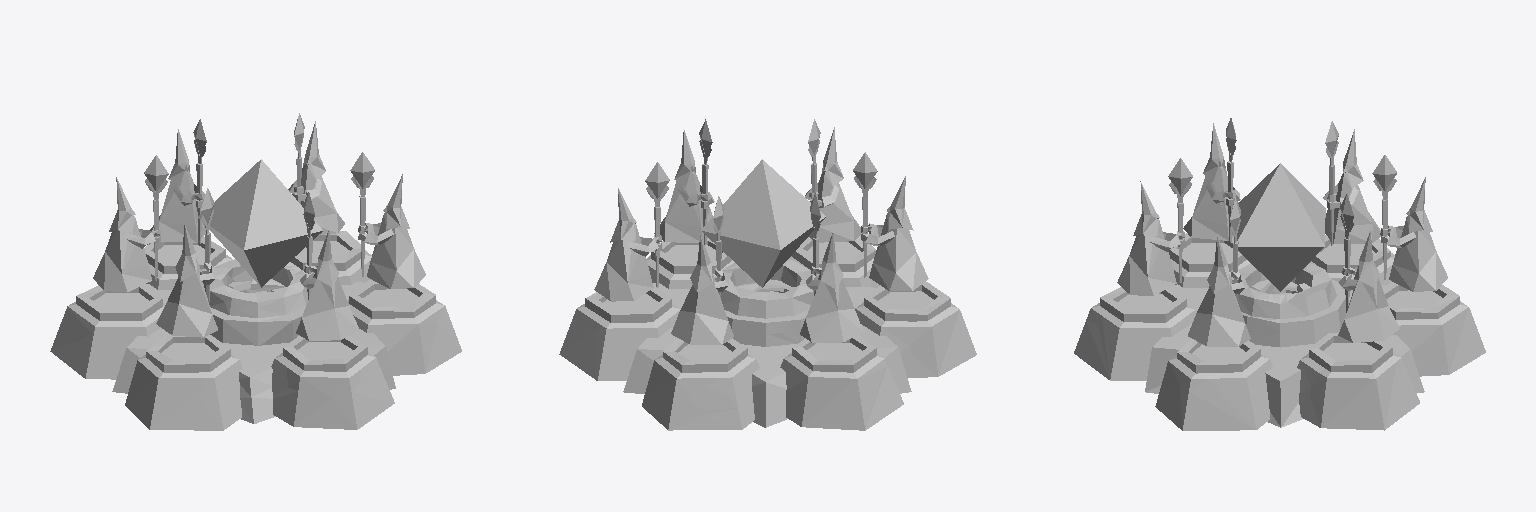
Rendered from blue_castle.obj.
3 views of the same model, side by side, from view 1: azimuth 30°, elevation 25°; view 2: azimuth 150°, elevation 25°; view 3: azimuth 270°, elevation 25° (orthographic).
Visible parts, largest first — view 1: Object062.001_未命名.001; view 2: Object062.001_未命名.001; view 3: Object062.001_未命名.001.
Part boxes in pixels (x1,y1,x2,y2): Object062.001_未命名.001: (50,113,461,430); Object062.001_未命名.001: (559,119,976,430); Object062.001_未命名.001: (1074,118,1485,430).
Size of the model in its own units: 120 by 75.8 by 136.